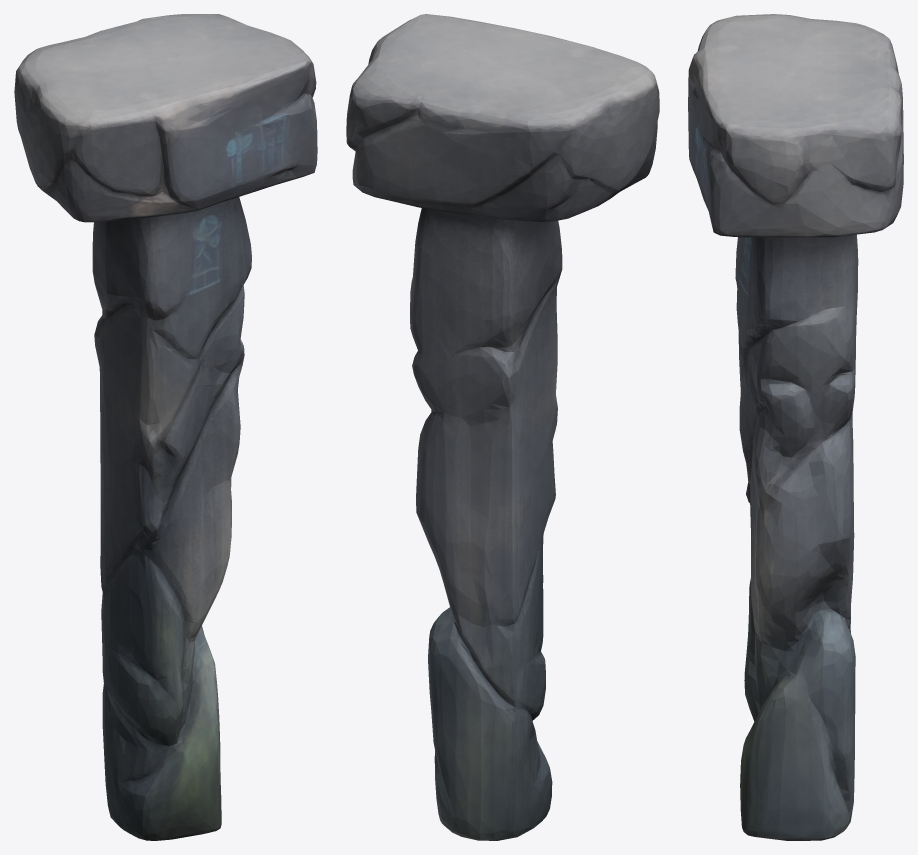
File: rune_pillar.glb
3 views of the same model, side by side, from view 1: azimuth 30°, elevation 25°; view 2: azimuth 150°, elevation 25°; view 3: azimuth 270°, elevation 25° (orthographic).
Parts seen in each view (by area): view 1: geometry_0; view 2: geometry_0; view 3: geometry_0.
Part boxes in pixels (x1,y1,x2,y2): geometry_0: [14, 14, 317, 840]; geometry_0: [346, 14, 659, 840]; geometry_0: [688, 14, 903, 840].
Size of the model in its own units: 0.3618 by 0.9987 by 0.2597.
Materials: 1 (1 with a texture image).
